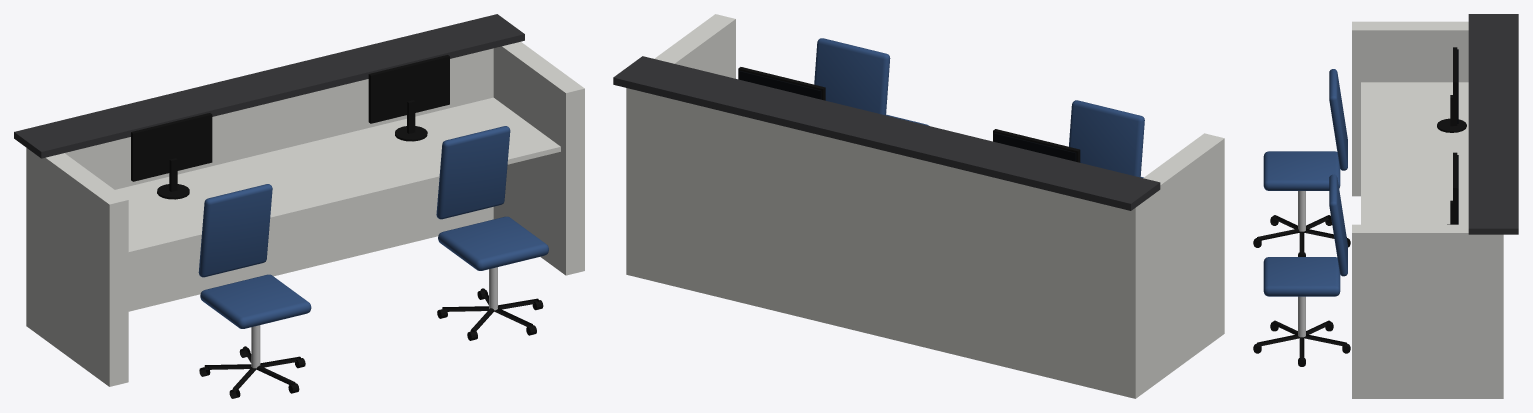
File: hospital.ward.nurse_station.glb
3 views of the same model, side by side, from view 1: azimuth 30°, elevation 25°; view 2: azimuth 150°, elevation 25°; view 3: azimuth 270°, elevation 25° (orthographic). The views are drawn at different scales.
Visible parts, largest first — view 1: main__laminate_white, main__fabric_blue, main__worktop, main__plastic_black, main__steel_stainless; view 2: main__laminate_white, main__worktop, main__fabric_blue, main__screen, main__plastic_black; view 3: main__laminate_white, main__worktop, main__fabric_blue, main__plastic_black, main__steel_stainless, main__screen.
Part boxes in pixels (box(x1,y1,x2,y2)): main__laminate_white: box(26, 41, 584, 386); main__fabric_blue: box(198, 126, 548, 328); main__worktop: box(14, 14, 524, 158); main__plastic_black: box(131, 55, 543, 398); main__steel_stainless: box(251, 267, 497, 368); main__laminate_white: box(626, 14, 1224, 398); main__worktop: box(613, 56, 1160, 210); main__fabric_blue: box(814, 38, 1144, 177); main__screen: box(739, 71, 1076, 161); main__plastic_black: box(738, 67, 1080, 162); main__laminate_white: box(1352, 21, 1503, 398); main__worktop: box(1468, 14, 1518, 234); main__fabric_blue: box(1263, 69, 1347, 296); main__plastic_black: box(1253, 47, 1466, 366); main__steel_stainless: box(1298, 191, 1305, 337); main__screen: box(1457, 49, 1458, 224).
Size of the model in its own units: 3.05 by 1.16 by 1.59.
